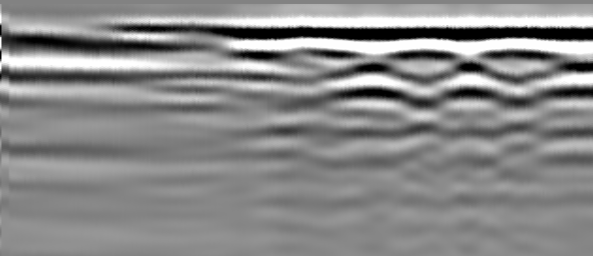pipe: (4, 21, 122, 52), (380, 45, 461, 61)
